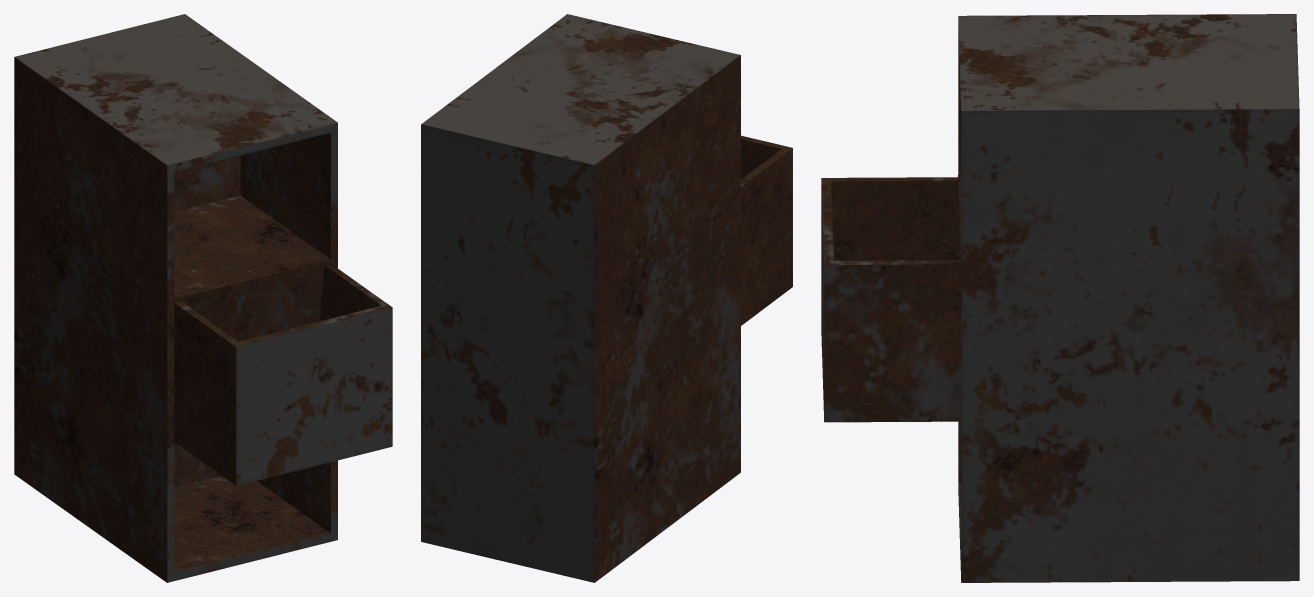
The model's file is archivero.glb.
3 renders of one model, left to right at view 1: azimuth 30°, elevation 25°; view 2: azimuth 150°, elevation 25°; view 3: azimuth 270°, elevation 25°, orthographic. The views are drawn at different scales.
Visible parts, largest first — view 1: Cube.016; view 2: Cube.016; view 3: Cube.016.
Part boxes in pixels (x1,y1,x2,y2): Cube.016: (14, 14, 392, 582); Cube.016: (421, 14, 792, 582); Cube.016: (821, 14, 1299, 582).
Size of the model in its own units: 0.5579 by 1.27 by 1.16.
Materials: 1 (1 with a texture image).
